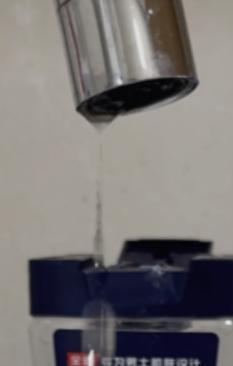water drop: (84, 112, 118, 266), (82, 300, 116, 362)
